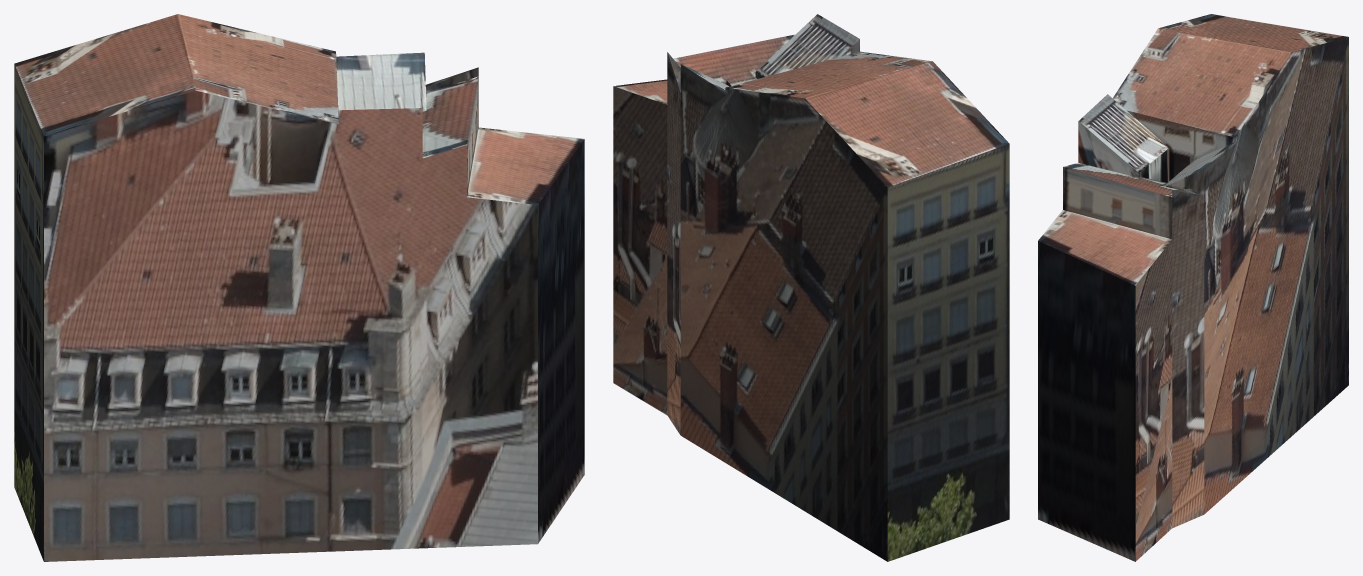
The picture shows the model from 3 angles, left to right: view 1: azimuth 30°, elevation 25°; view 2: azimuth 150°, elevation 25°; view 3: azimuth 270°, elevation 25°; orthographic projection. The views are drawn at different scales.
Parts seen in each view (by area): view 1: Z_UP; view 2: Z_UP; view 3: Z_UP.
Part boxes in pixels (bbox=[...]): Z_UP: bbox=[14, 14, 584, 561]; Z_UP: bbox=[613, 14, 1009, 561]; Z_UP: bbox=[1038, 14, 1348, 561].
Size of the model in its own units: 27.76 by 25.08 by 18.38.
2 materials, 1 textured.
